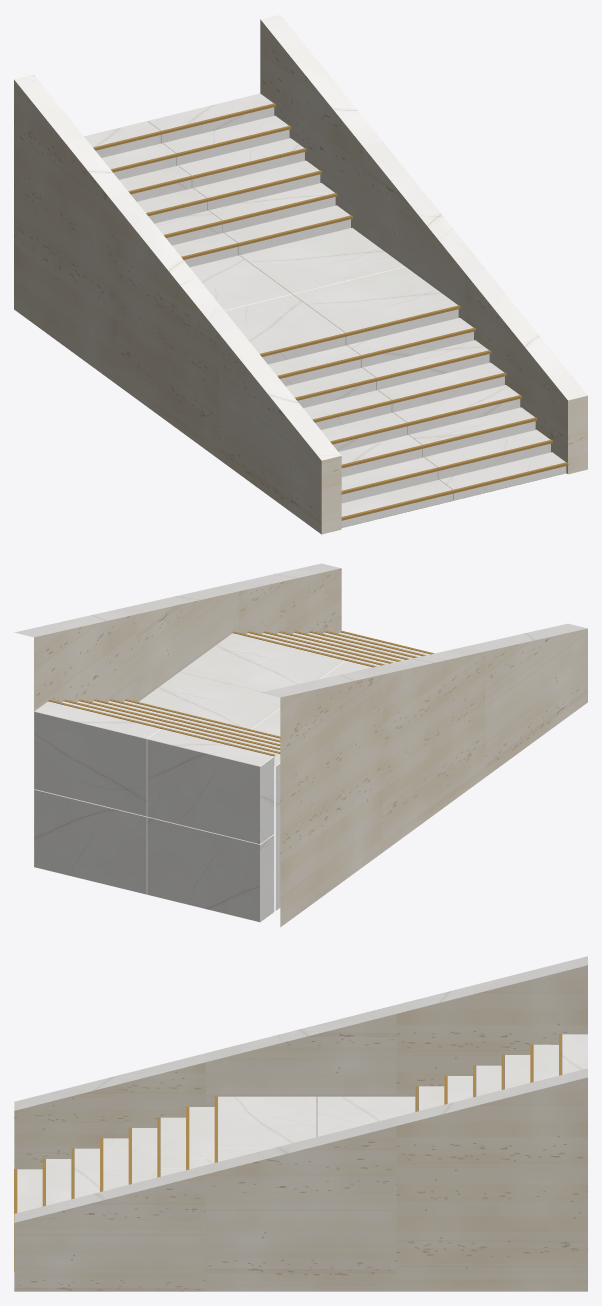
The picture shows the model from 3 angles, top to bottom: view 1: azimuth 30°, elevation 25°; view 2: azimuth 150°, elevation 25°; view 3: azimuth 270°, elevation 25°; orthographic projection. The views are drawn at different scales.
Parts seen in each view (by area): view 1: Mesh_stair_4; view 2: Mesh_stair_4; view 3: Mesh_stair_4.
Boxes of the visible parts, x1,y1,x2,y2 form: Mesh_stair_4: (14, 14, 587, 534); Mesh_stair_4: (14, 563, 587, 927); Mesh_stair_4: (14, 956, 587, 1291).
Size of the model in its own units: 4 by 3.3 by 8.01.
1 material, 1 textured.
